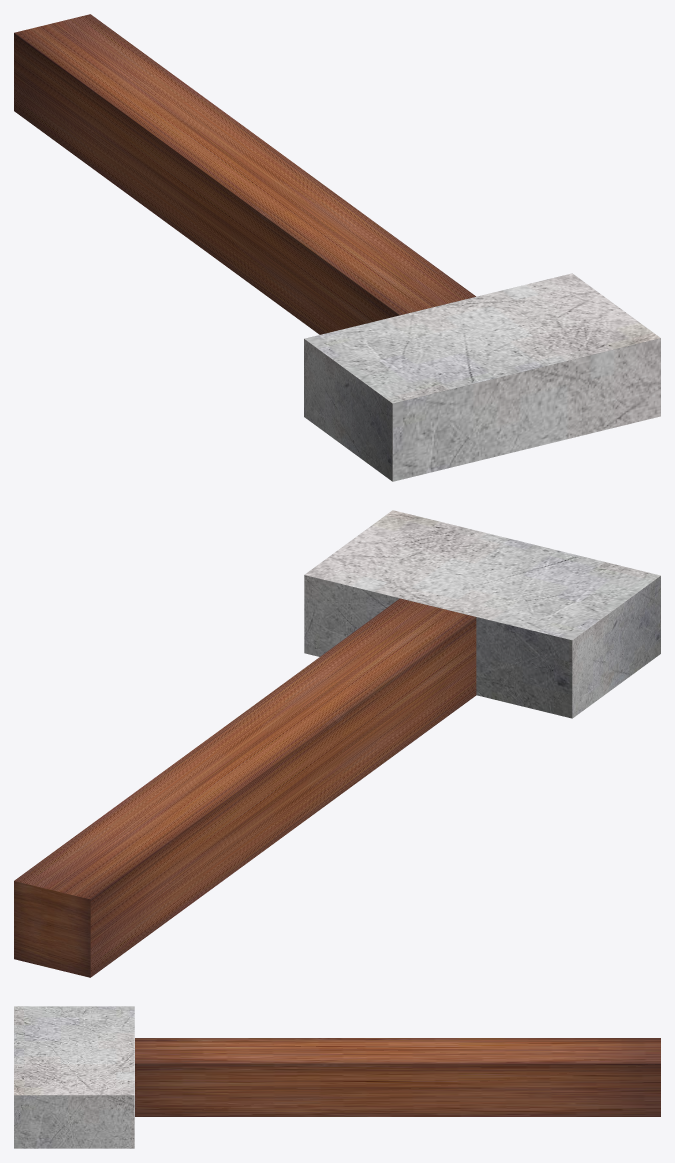
Rendered from hammer.obj.
3 renders of one model, top to bottom at view 1: azimuth 30°, elevation 25°; view 2: azimuth 150°, elevation 25°; view 3: azimuth 270°, elevation 25°, orthographic. The views are drawn at different scales.
Parts seen in each view (by area): view 1: Hammer_Cube.001; view 2: Hammer_Cube.001; view 3: Hammer_Cube.001.
Boxes of the visible parts, <box> form: Hammer_Cube.001: <box>14,14,660,481</box>; Hammer_Cube.001: <box>14,510,660,977</box>; Hammer_Cube.001: <box>14,1006,660,1148</box>.
Size of the model in its own units: 0.1404 by 0.0391 by 0.4302.
Materials: 2 (2 with a texture image).
